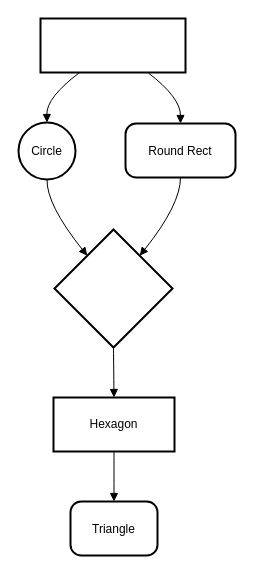
Some shapes in this 253 by 573 pixel diagram are drawn without their labels. Each missing label, with the centre of its shape:
"Rhombus" belongs at point 113,288.
"Square Rect" belongs at point 112,45.
